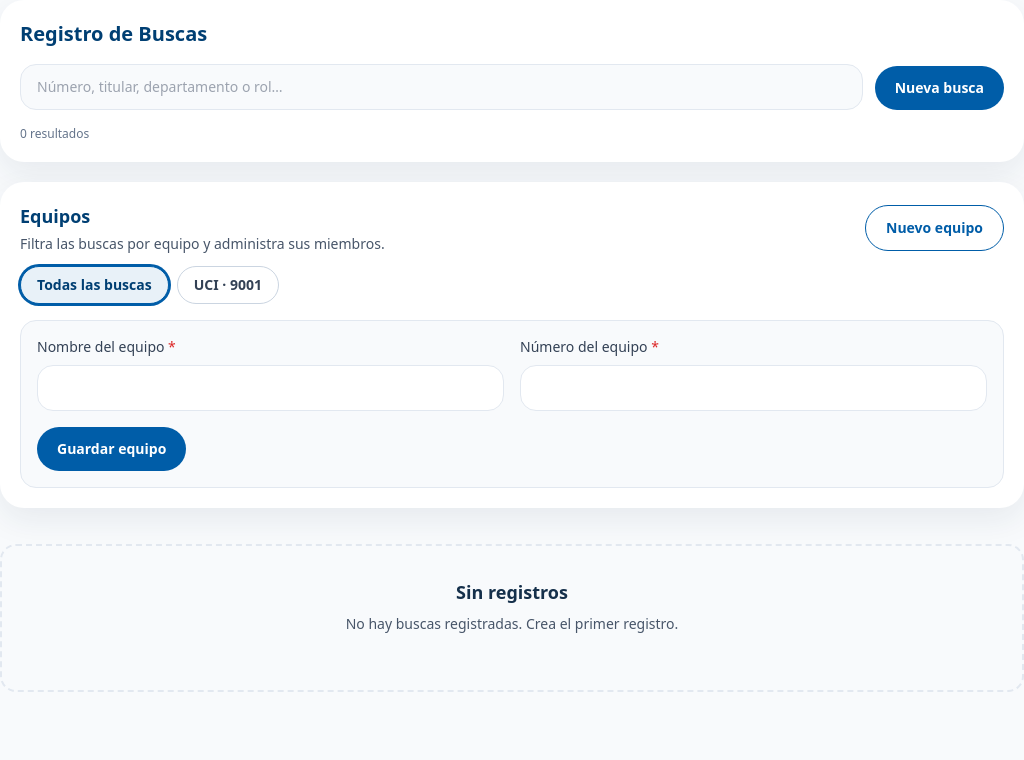
Test: BeepersPage › shows an empty state inside team members when no buscas are registered
Click the button "UCI · 9001" at {"x": 228, "y": 285}, box x1=177 y1=266 x2=279 y2=304
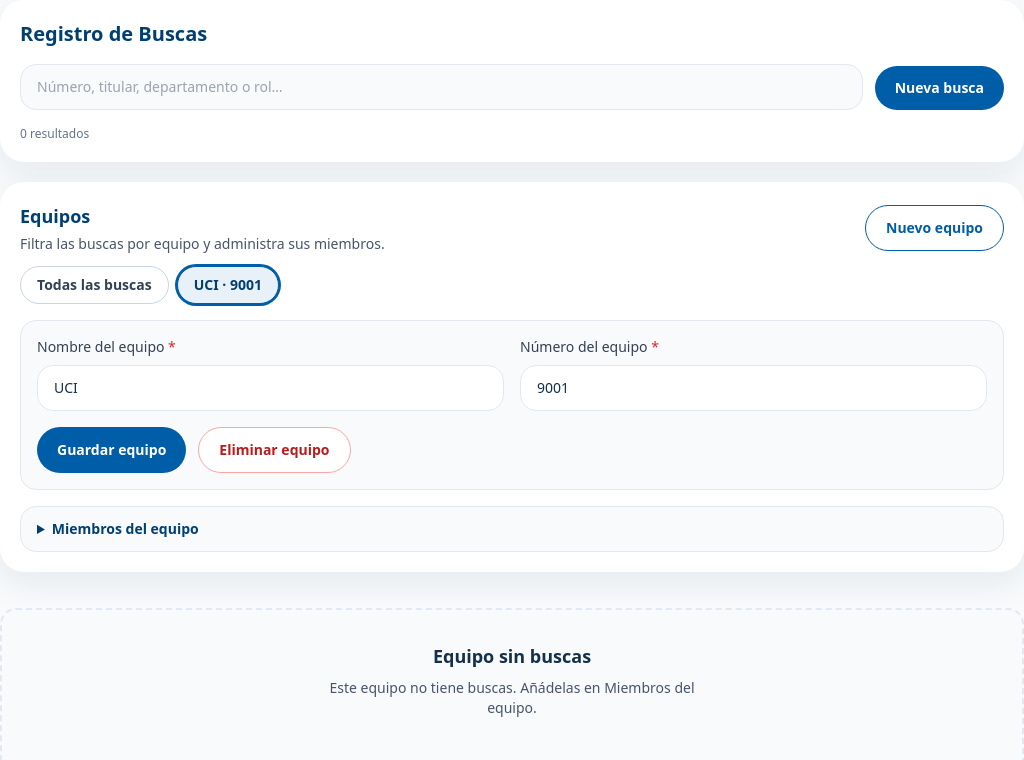
Click the heading "Miembros del equipo" at {"x": 125, "y": 528}, box x1=52 y1=519 x2=199 y2=538
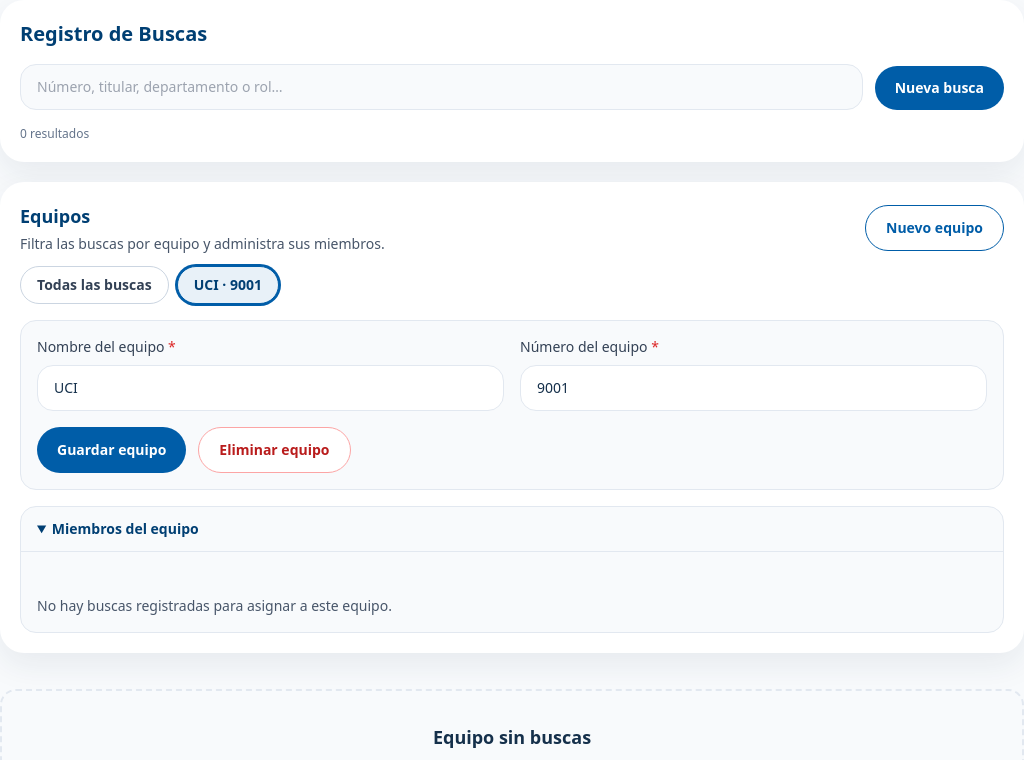
Check: the text "No hay buscas registradas para asignar a este equipo." is shown, box x1=37 y1=596 x2=392 y2=615
